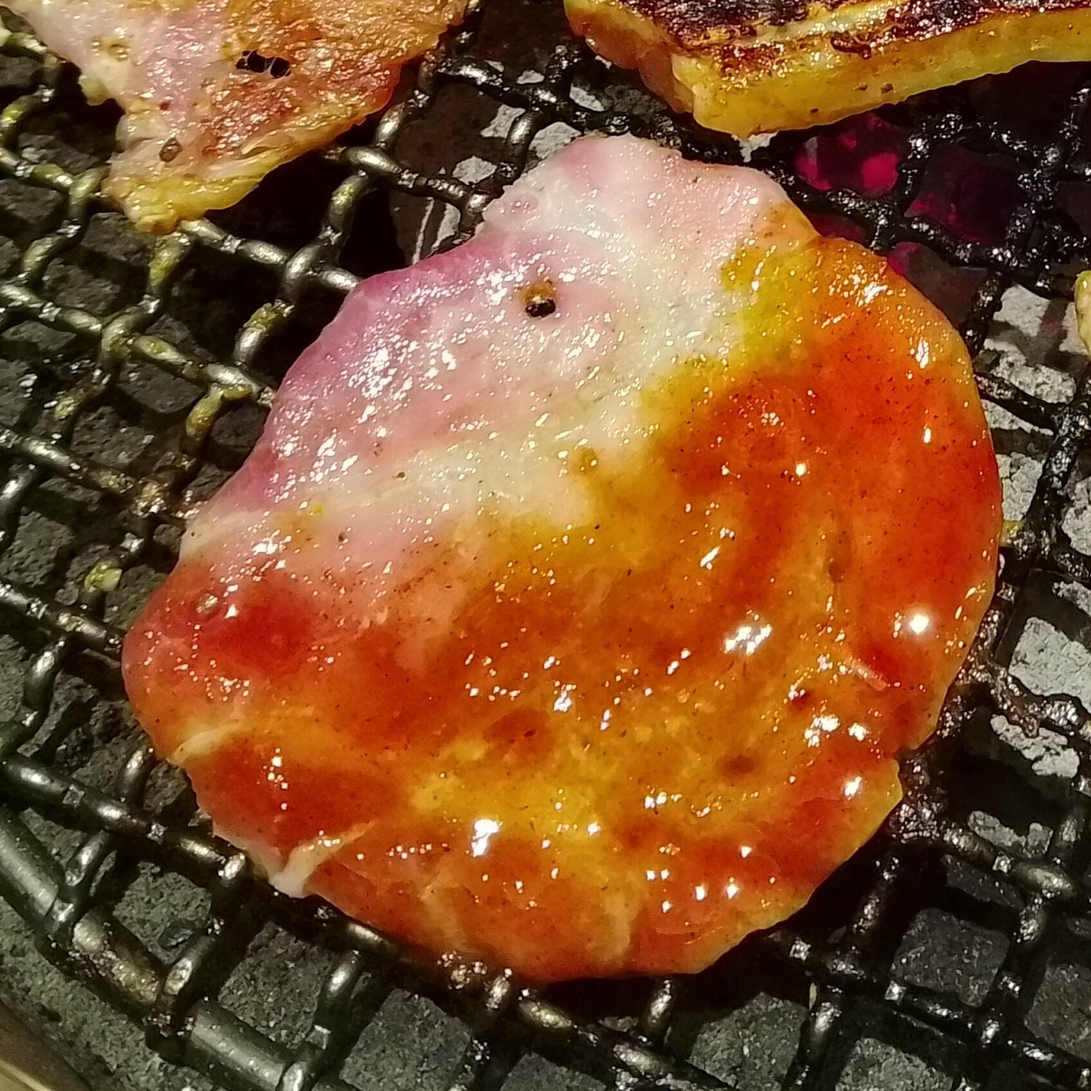Undercooked: (123, 136, 1000, 981)
